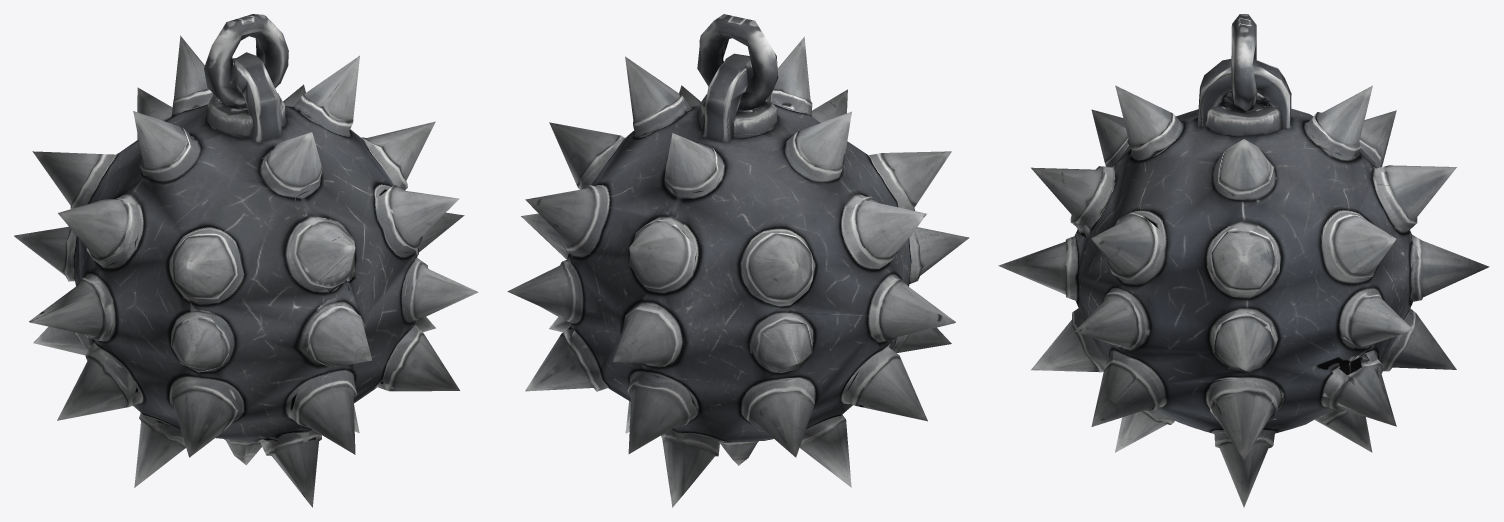
The model's file is Standard.glb.
3 renders of one model, left to right at view 1: azimuth 30°, elevation 25°; view 2: azimuth 150°, elevation 25°; view 3: azimuth 270°, elevation 25°, orthographic. The views are drawn at different scales.
Parts seen in each view (by area): view 1: Mesh1.0; view 2: Mesh1.0; view 3: Mesh1.0.
Part boxes in pixels (x1=…): Mesh1.0: x1=14, y1=14, x2=478, y2=507; Mesh1.0: x1=507, y1=14, x2=969, y2=507; Mesh1.0: x1=998, y1=14, x2=1489, y2=507.
Size of the model in its own units: 1.92 by 1.89 by 1.93.
Materials: 1 (1 with a texture image).
